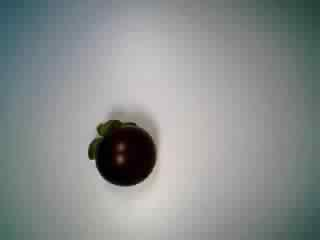mangosteen: (84, 115, 160, 188)
